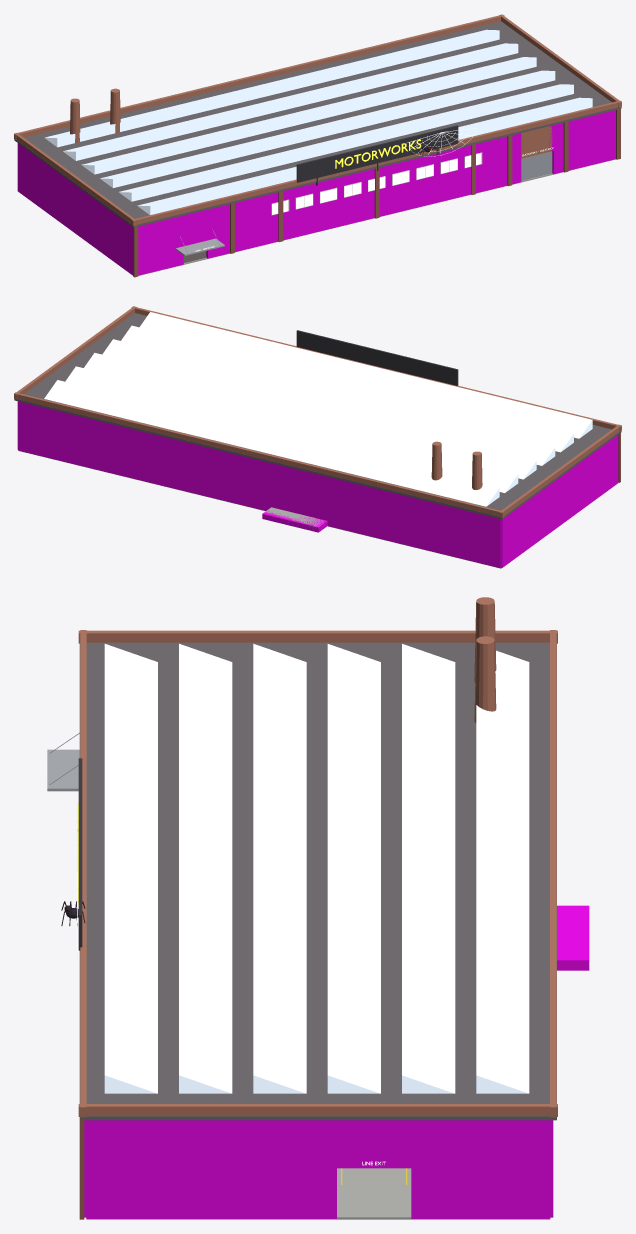
Rendered from plant.glb.
The picture shows the model from 3 angles, top to bottom: view 1: azimuth 30°, elevation 25°; view 2: azimuth 150°, elevation 25°; view 3: azimuth 270°, elevation 25°; orthographic projection. The views are drawn at different scales.
Visible parts, largest first — view 1: Roof_Slab, COL_Wall_N_2, Parapet, Skylight_1, Skylight_3, Skylight_4, Skylight_2, Skylight_0, COL_Wall_W_0, Skylight_5, COL_Wall_N_4, Sign_Frame (+13 smaller); view 2: COL_Wall_S_0, Skylight_0, Skylight_3, Skylight_5, Skylight_4, Skylight_2, Skylight_1, Parapet, COL_Wall_W_0, Roof_Slab, Sign_Frame, COL_Dock (+4 smaller); view 3: Roof_Slab, COL_Wall_E_2, Skylight_5, Skylight_2, Skylight_3, Skylight_4, Skylight_1, Skylight_0, Parapet, COL_Wall_E_0, Plant_Floor, COL_Wall_E_1 (+5 smaller).
Part boxes in pixels (box(x1,y1,x2,y2)): Roof_Slab: box(14, 21, 621, 227); COL_Wall_N_2: box(206, 133, 521, 258); Parapet: box(14, 14, 621, 225); Skylight_1: box(63, 43, 518, 160); Skylight_3: box(100, 70, 555, 187); Skylight_4: box(118, 84, 573, 201); Skylight_2: box(81, 57, 536, 174); Skylight_0: box(44, 29, 499, 147); COL_Wall_W_0: box(17, 143, 133, 275); Skylight_5: box(137, 97, 592, 214); COL_Wall_N_4: box(552, 110, 615, 174); Sign_Frame: box(296, 125, 458, 185); COL_Wall_S_0: box(18, 401, 501, 567); Skylight_0: box(44, 380, 499, 506); Skylight_3: box(102, 339, 555, 465); Skylight_5: box(139, 312, 592, 438); Skylight_4: box(121, 325, 573, 452); Skylight_2: box(84, 352, 536, 479); Skylight_1: box(65, 366, 518, 492); Parapet: box(14, 306, 621, 517); COL_Wall_W_0: box(501, 435, 618, 567); Roof_Slab: box(14, 313, 621, 519); Sign_Frame: box(296, 330, 458, 385); COL_Dock: box(262, 511, 327, 532); Roof_Slab: box(79, 642, 556, 1120); COL_Wall_E_2: box(86, 1120, 336, 1218); Skylight_5: box(104, 644, 157, 1093); Skylight_2: box(327, 644, 380, 1093); Skylight_3: box(253, 643, 306, 1093); Skylight_4: box(179, 643, 232, 1093); Skylight_1: box(402, 644, 455, 1093); Skylight_0: box(476, 650, 529, 1093); Parapet: box(78, 630, 557, 1117); COL_Wall_E_0: box(411, 1120, 550, 1218); Plant_Floor: box(86, 1168, 550, 1219); COL_Wall_E_1: box(337, 1120, 411, 1168).
Size of the model in its own units: 122 by 22.24 by 58.48.
